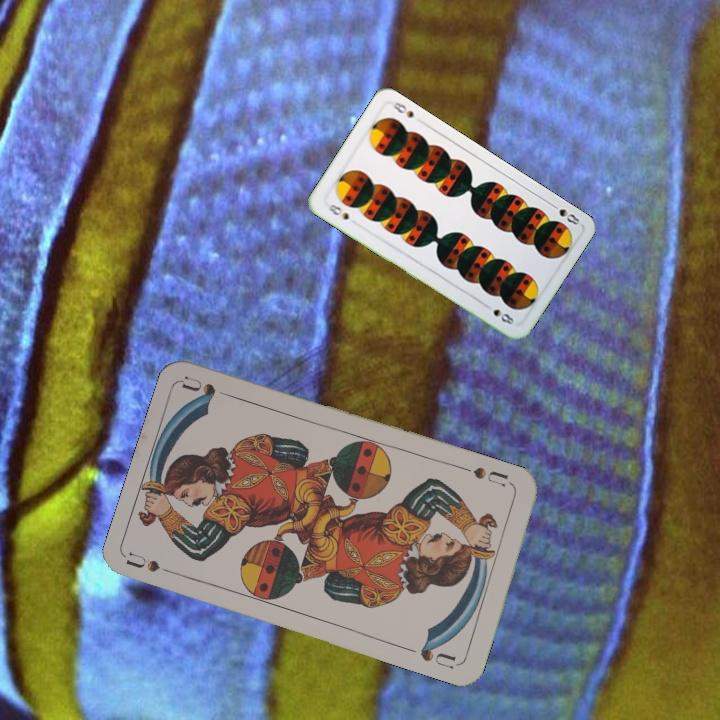S8: (546, 199, 582, 228), (324, 200, 352, 222)
SU: (124, 547, 183, 579), (469, 462, 517, 490)
